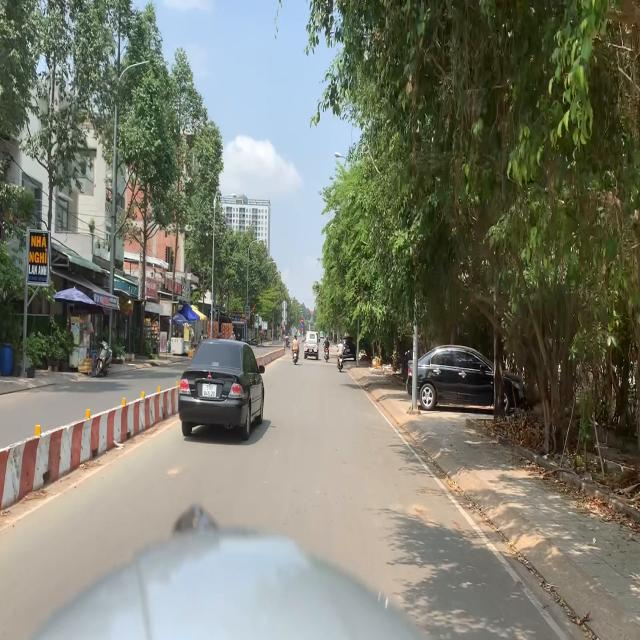Cam nguoc chieu: (301, 318, 304, 323)
Hieu lenh: (301, 324, 304, 327)
